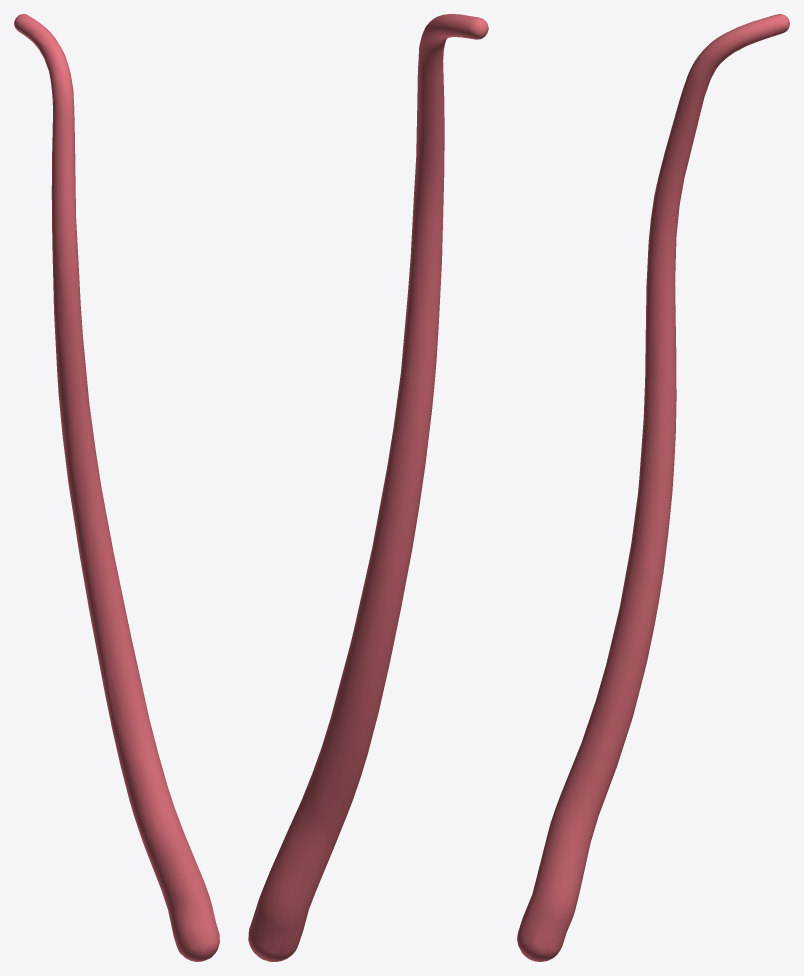
The model's file is fma50818_fj5105.glb.
3 renders of one model, left to right at view 1: azimuth 30°, elevation 25°; view 2: azimuth 210°, elevation 25°; view 3: azimuth 270°, elevation 25°, orthographic. The views are drawn at different scales.
Parts seen in each view (by area): view 1: FMA50818_FJ5105; view 2: FMA50818_FJ5105; view 3: FMA50818_FJ5105.
Boxes of the visible parts, bbox=[...] form: FMA50818_FJ5105: bbox=[14, 14, 219, 961]; FMA50818_FJ5105: bbox=[248, 14, 488, 961]; FMA50818_FJ5105: bbox=[517, 14, 789, 961].
Bounding box in the file's own units: 0.0197 × 0.159 × 0.043.
